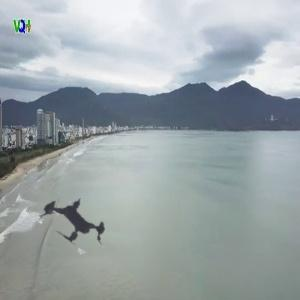drone: (21, 167, 135, 281)
